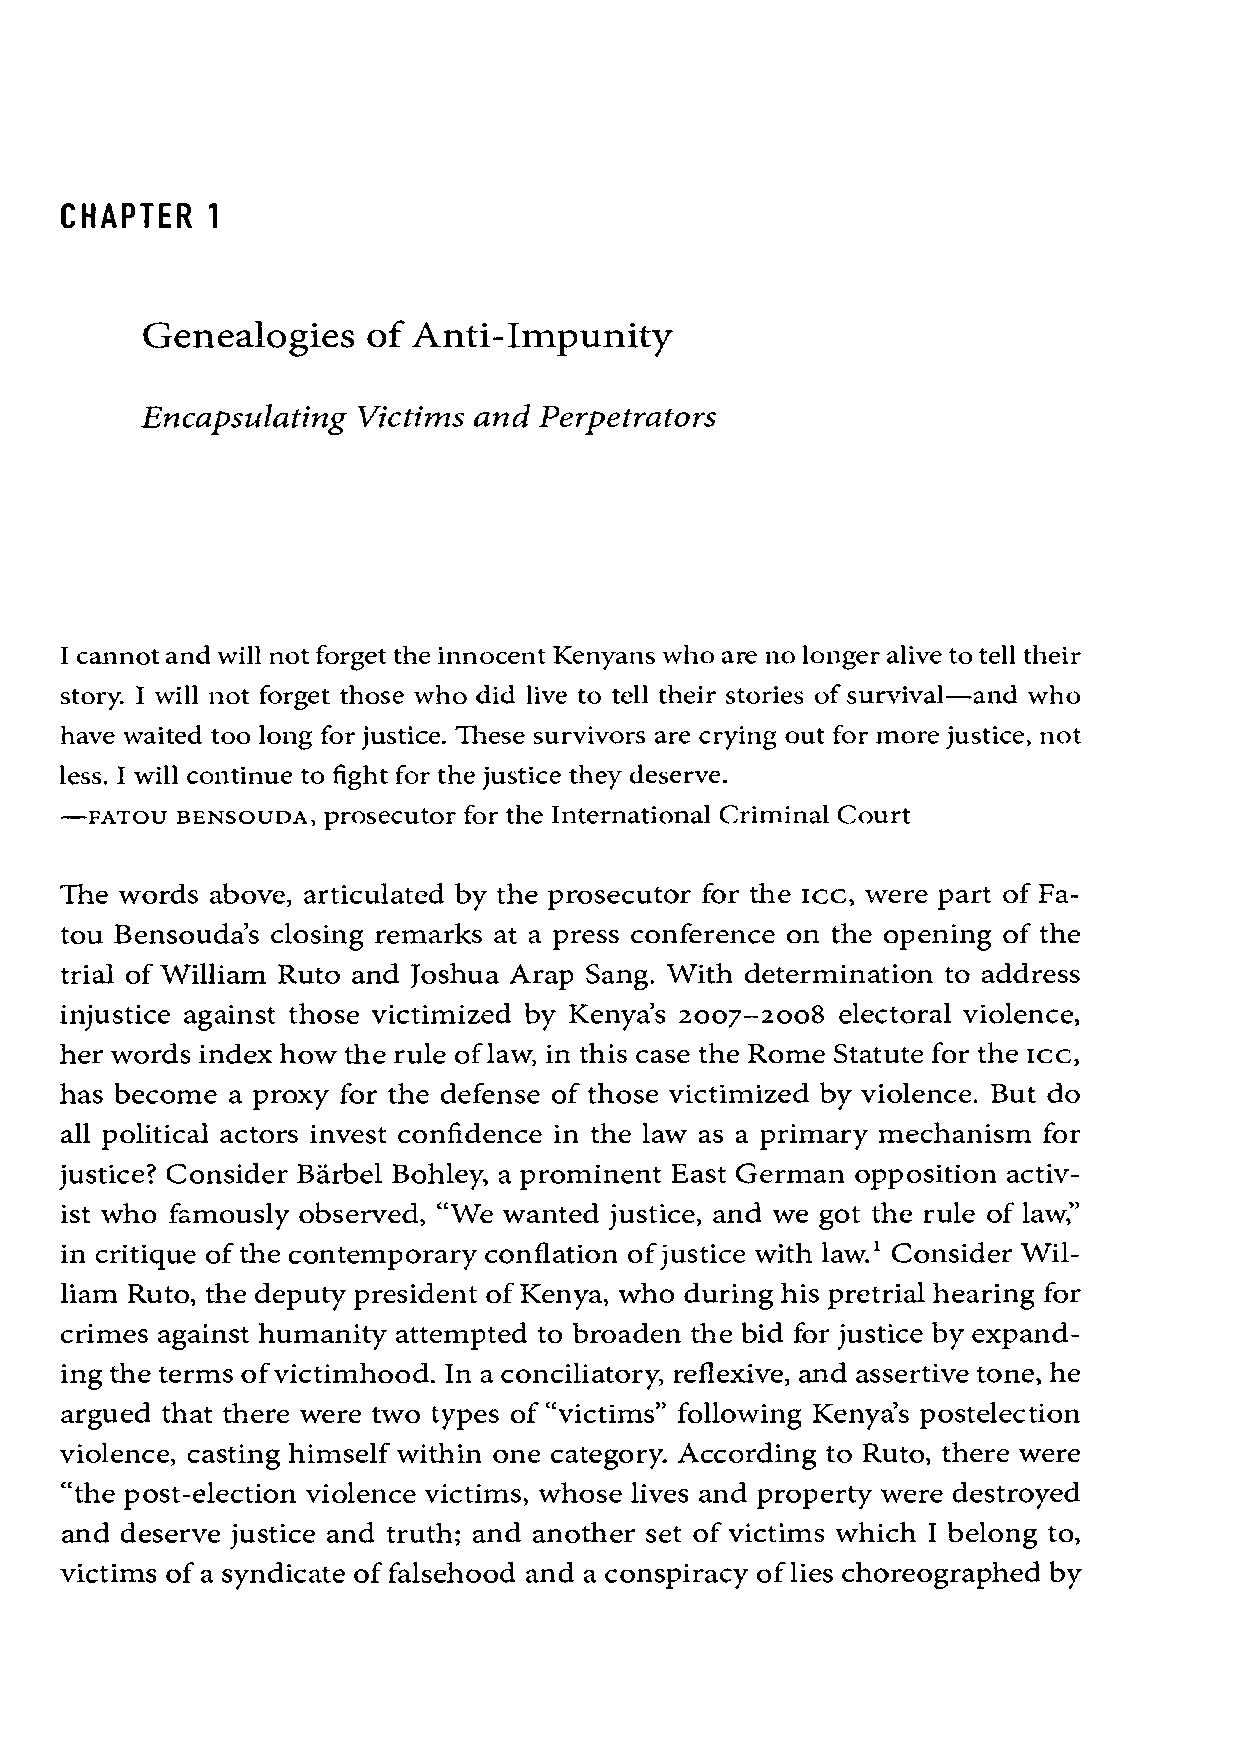chapter: (56, 197, 718, 437)
content: (56, 643, 1082, 1596)
